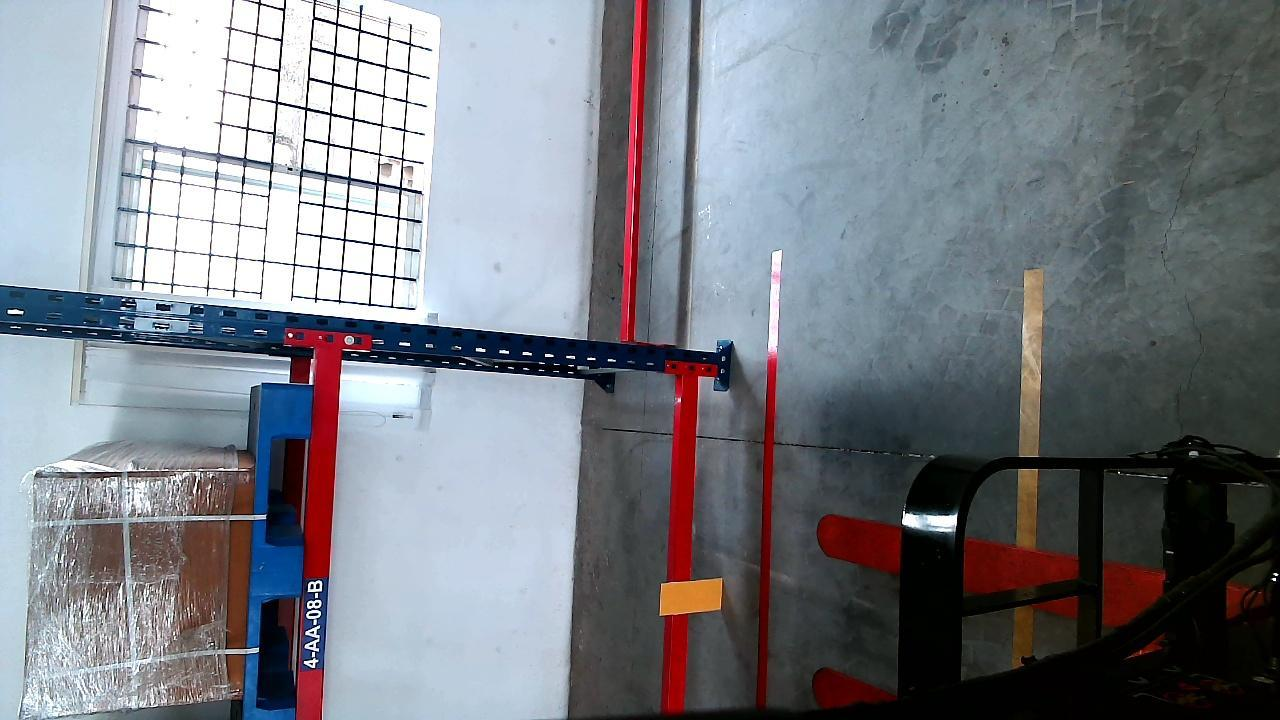red_line: (755, 251, 783, 710)
yellow_line: (1017, 260, 1042, 541)
